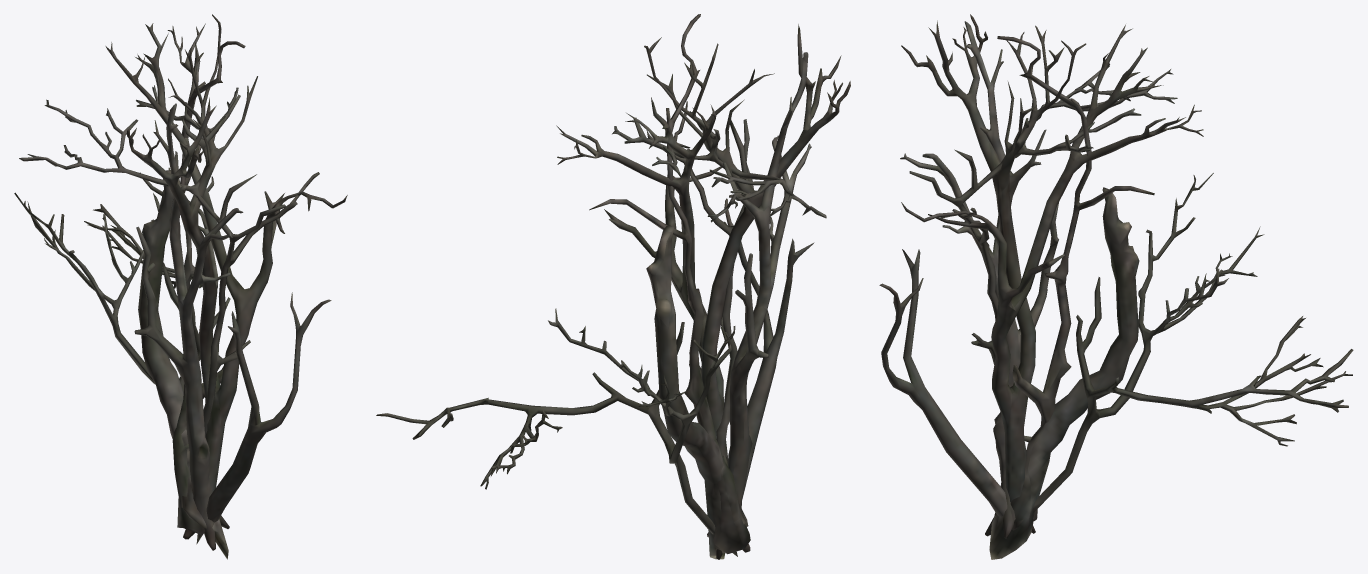
The model's file is GWood.fbx.
3 views of the same model, side by side, from view 1: azimuth 30°, elevation 25°; view 2: azimuth 150°, elevation 25°; view 3: azimuth 270°, elevation 25° (orthographic). The views are drawn at different scales.
Visible parts, largest first — view 1: GWood_06, GWood_07, GWood_05, GWood_03, GWood_02, GWood_01, GWood_04; view 2: GWood_06, GWood_07, GWood_02, GWood_03, GWood_04, GWood_05, GWood_01; view 3: GWood_06, GWood_02, GWood_03, GWood_07, GWood_01, GWood_04, GWood_05.
Part boxes in pixels (<box>): GWood_06: <box>105,14,347,493</box>; GWood_07: <box>134,103,243,550</box>; GWood_05: <box>19,85,319,544</box>; GWood_03: <box>138,170,228,559</box>; GWood_02: <box>14,167,230,391</box>; GWood_01: <box>206,292,331,522</box>; GWood_04: <box>172,41,245,535</box>; GWood_06: <box>556,24,850,461</box>; GWood_07: <box>707,52,811,559</box>; GWood_02: <box>376,308,735,534</box>; GWood_03: <box>646,225,748,559</box>; GWood_04: <box>589,14,750,554</box>; GWood_05: <box>612,111,826,556</box>; GWood_01: <box>724,198,814,499</box>; GWood_06: <box>901,14,1203,501</box>; GWood_02: <box>1032,173,1353,512</box>; GWood_03: <box>989,187,1139,559</box>; GWood_07: <box>900,21,1058,538</box>; GWood_01: <box>879,249,1007,516</box>; GWood_04: <box>997,36,1154,530</box>; GWood_05: <box>909,63,1177,467</box>.
Size of what is drawn, in the model's own units: 283 by 446 by 359.
